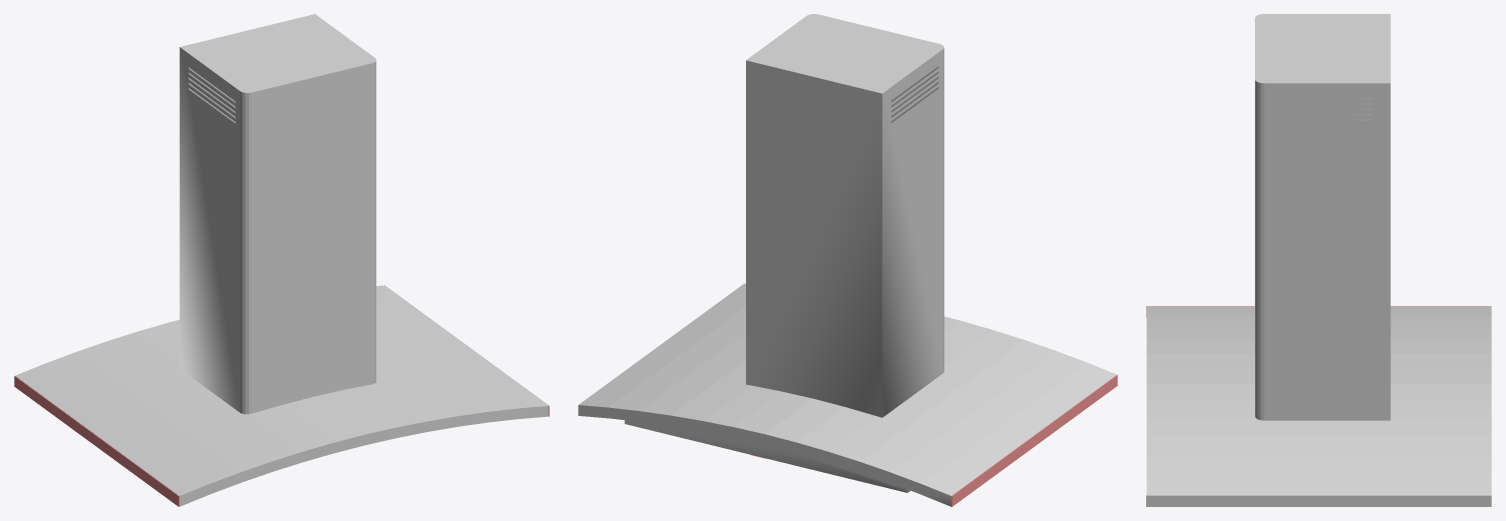
File: pv977nss_geprofile.glb
3 renders of one model, left to right at view 1: azimuth 30°, elevation 25°; view 2: azimuth 150°, elevation 25°; view 3: azimuth 270°, elevation 25°, orthographic. The views are drawn at different scales.
Parts seen in each view (by area): view 1: mesh_0_ROOT__Chimney_Layer0, mesh_6_ROOT__Hood_High_Layer0, mesh_16_ROOT__LeftSide_Layer0; view 2: mesh_0_ROOT__Chimney_Layer0, mesh_6_ROOT__Hood_High_Layer0, mesh_1_ROOT__Hood_Low_Layer0, mesh_16_ROOT__LeftSide_Layer0; view 3: mesh_0_ROOT__Chimney_Layer0, mesh_6_ROOT__Hood_High_Layer0.
Boxes of the visible parts, x1,y1,x2,y2 form: mesh_0_ROOT__Chimney_Layer0: (179, 14, 376, 414); mesh_6_ROOT__Hood_High_Layer0: (15, 285, 549, 506); mesh_16_ROOT__LeftSide_Layer0: (14, 376, 179, 506); mesh_0_ROOT__Chimney_Layer0: (746, 14, 944, 417); mesh_6_ROOT__Hood_High_Layer0: (578, 283, 1116, 506); mesh_1_ROOT__Hood_Low_Layer0: (624, 420, 909, 492); mesh_16_ROOT__LeftSide_Layer0: (951, 374, 1117, 506); mesh_0_ROOT__Chimney_Layer0: (1255, 14, 1390, 420); mesh_6_ROOT__Hood_High_Layer0: (1146, 306, 1491, 506).
Size of the model in its own units: 913 by 815 by 702.
